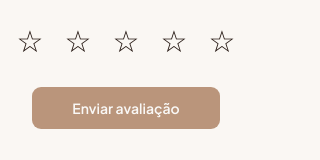
Test: RatingForm › [P1-020] success shows the thank-you message
Click the button named "5 estrelas".
click(222, 40)  # box [200, 18, 244, 62]
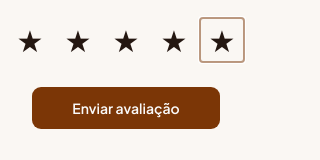
Click the button "Enviar avaliação".
click(126, 108)  # box [31, 86, 221, 130]
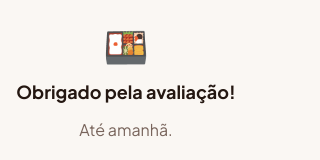
Expected: the text "Obrigado pela avaliação!" is shown, [16, 78, 236, 106]
Expected: the button "Enviar avaliação" is gone
